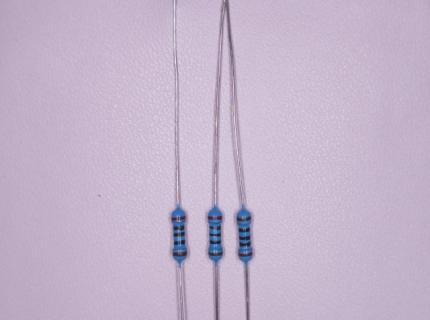Black band: (173, 231, 185, 238), (209, 240, 222, 245), (209, 225, 221, 230), (239, 236, 251, 241), (238, 228, 250, 233), (173, 225, 185, 230), (173, 240, 185, 245), (239, 242, 251, 247), (209, 233, 221, 237)
Brown band: (171, 215, 186, 221), (208, 252, 223, 257), (237, 217, 252, 222), (173, 252, 187, 257)
Red band: (238, 252, 253, 257), (208, 217, 223, 220)
